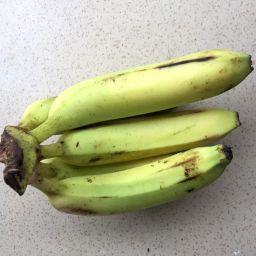banana: (0, 47, 255, 145), (0, 141, 235, 220), (0, 108, 244, 169), (0, 147, 193, 183), (3, 93, 60, 133)
